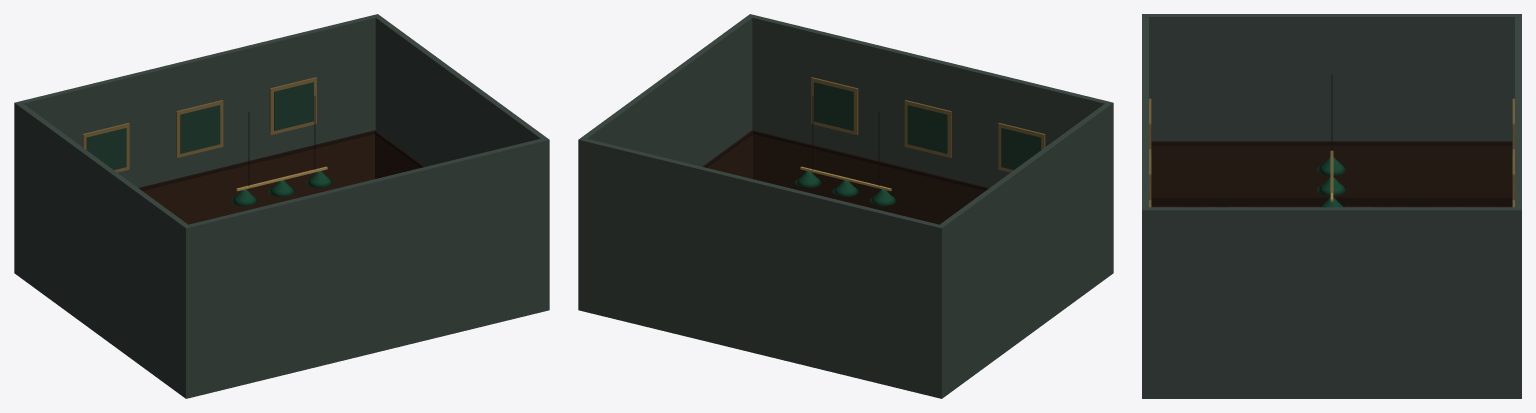
The model's file is room.glb.
The picture shows the model from 3 angles, left to right: view 1: azimuth 30°, elevation 25°; view 2: azimuth 150°, elevation 25°; view 3: azimuth 270°, elevation 25°; orthographic projection. The views are drawn at different scales.
Parts seen in each view (by area): view 1: WallS, WallN, WallW, WallE, WainscotN, ArtN1, ArtN2, ArtN0, ChairRailN, WainscotE, FrameN1, FrameN2 (+1 smaller); view 2: WallN, WallS, WallW, WallE, WainscotS, ArtS1, ArtS2, ArtS0, ChairRailS, WainscotE, FrameS1, FrameS2 (+1 smaller); view 3: WallE, WallW, WainscotW, BaseW, WallN, WallS, ChairRailW, Floor, LampShade0, LampShade1.
Part boxes in pixels (<box>): WallS: <box>183,137,549,398</box>; WallN: <box>14,14,380,275</box>; WallW: <box>17,103,187,396</box>; WallE: <box>375,16,545,166</box>; WainscotN: <box>143,134,374,224</box>; ArtN1: <box>180,105,220,153</box>; ArtN2: <box>274,82,313,130</box>; ArtN0: <box>86,128,126,169</box>; ChairRailN: <box>138,130,376,190</box>; WainscotE: <box>375,134,420,178</box>; FrameN1: <box>176,100,223,157</box>; FrameN2: <box>269,77,316,134</box>; WallN: <box>578,137,944,398</box>; WallS: <box>747,14,1113,275</box>; WallW: <box>940,103,1110,396</box>; WallE: <box>582,16,752,166</box>; WainscotS: <box>753,134,984,224</box>; ArtS1: <box>907,105,947,153</box>; ArtS2: <box>814,82,853,130</box>; ArtS0: <box>1001,128,1041,169</box>; ChairRailS: <box>751,130,989,190</box>; WainscotE: <box>707,134,752,178</box>; FrameS1: <box>904,100,951,157</box>; FrameS2: <box>811,77,858,134</box>; WallE: <box>1149,207,1514,398</box>; WallW: <box>1149,14,1514,141</box>; WainscotW: <box>1151,145,1512,197</box>; BaseW: <box>1151,197,1512,206</box>; WallN: <box>1515,14,1521,398</box>; WallS: <box>1142,14,1148,398</box>; ChairRailW: <box>1151,141,1512,145</box>; Floor: <box>1152,206,1511,207</box>; LampShade0: <box>1317,157,1346,175</box>; LampShade1: <box>1317,177,1346,195</box>.
Size of the model in its own units: 6.6 by 3.26 by 5.4.
